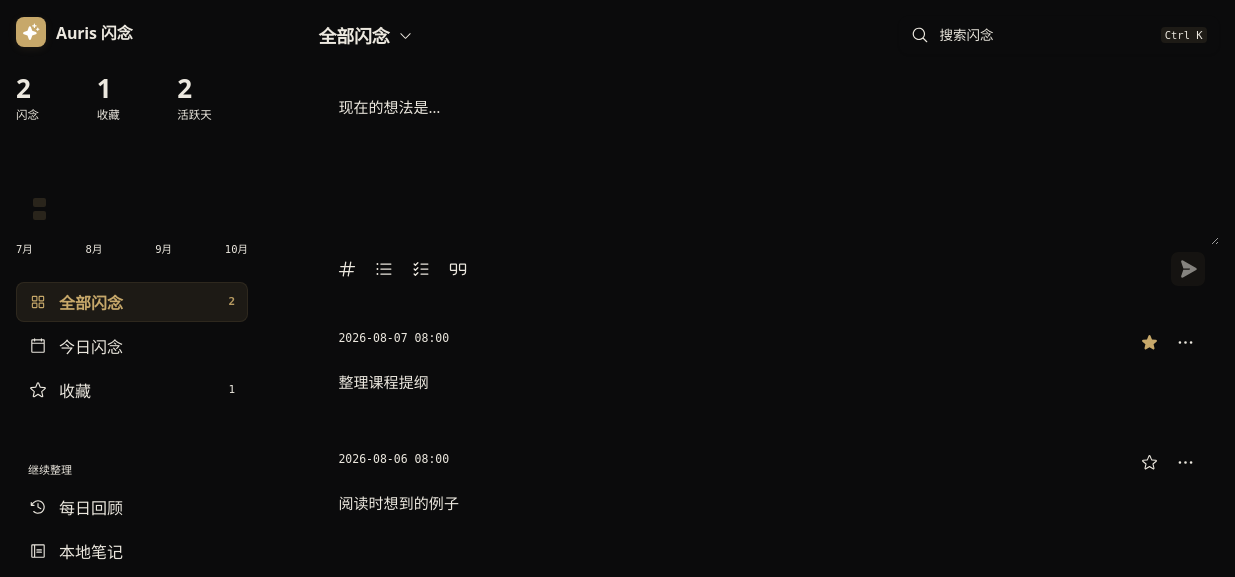
Test case: FlashPageClient › closes the filter menu with Escape
Click the button "全部闪念" at [366, 35], box [316,16,415,54]
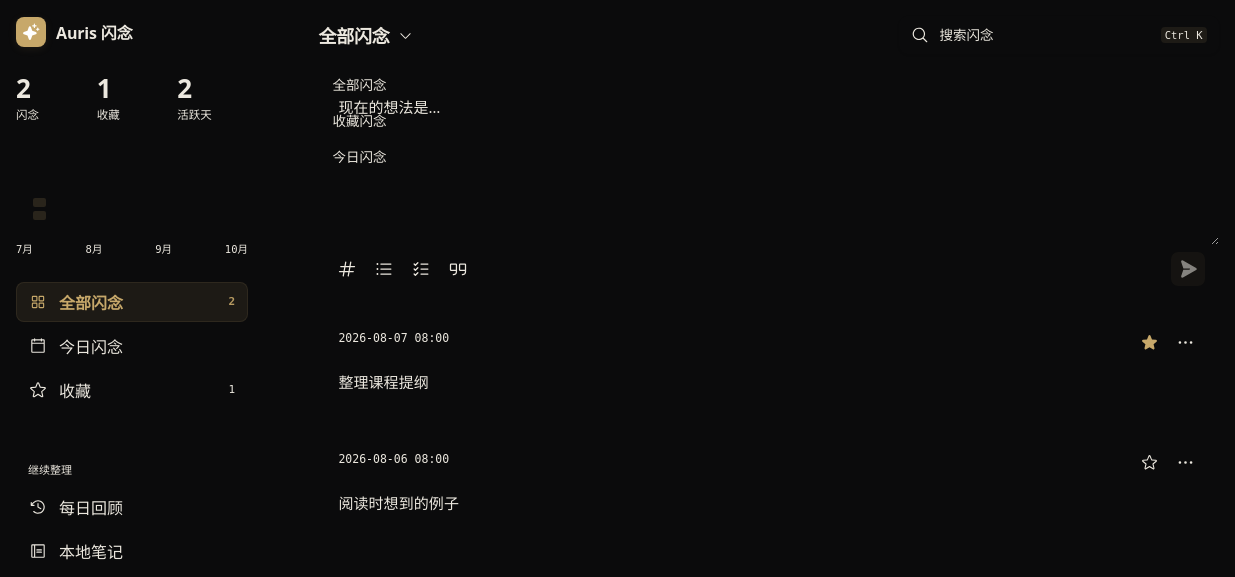
Expected: the menu is shown, [316,60,464,180]
Press Escape
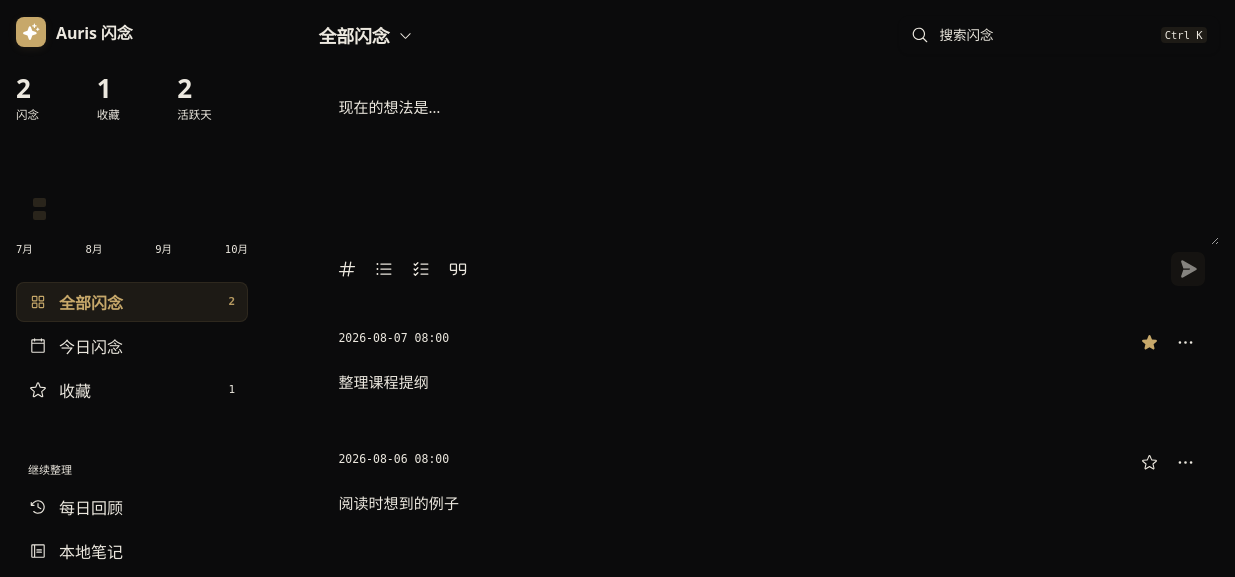
Expected: the menu is gone
